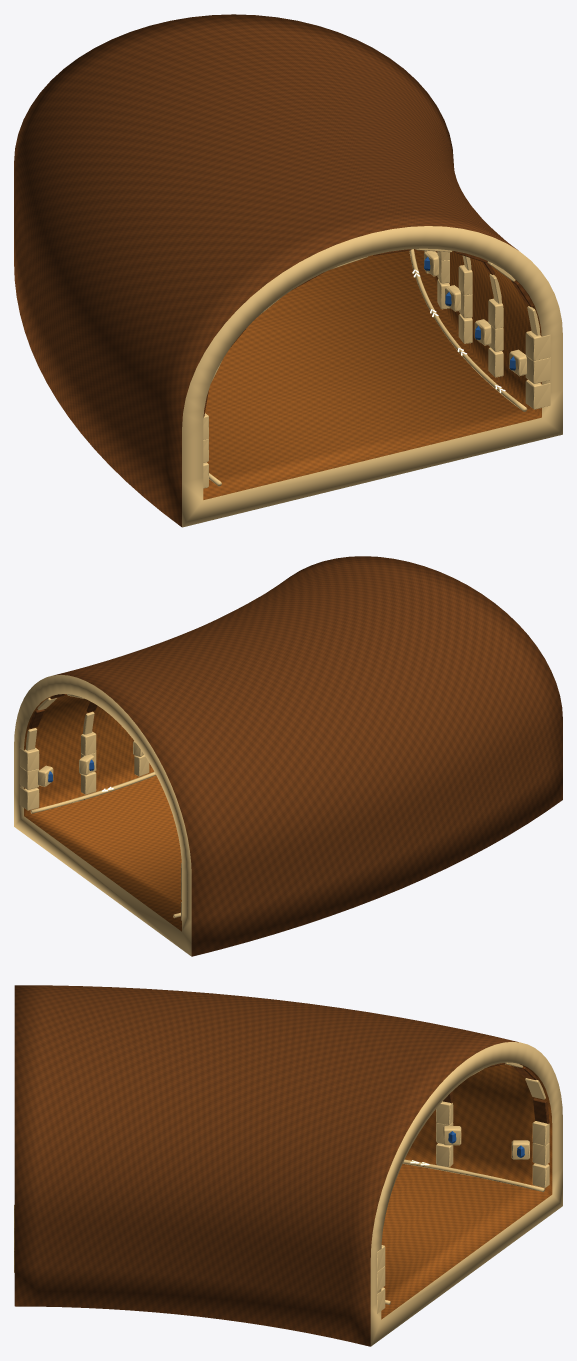
The model's file is curve_right_30_lod1.glb.
3 views of the same model, one above another, from view 1: azimuth 30°, elevation 25°; view 2: azimuth 150°, elevation 25°; view 3: azimuth 270°, elevation 25° (orthographic). The views are drawn at different scales.
Parts seen in each view (by area): view 1: TunnelGeometry.001; view 2: TunnelGeometry.001; view 3: TunnelGeometry.001.
Boxes of the visible parts, <box> form: TunnelGeometry.001: <box>14,14,562,527</box>; TunnelGeometry.001: <box>14,556,562,956</box>; TunnelGeometry.001: <box>14,985,562,1346</box>.
Bounding box in the file's own units: 19.1 × 9.52 × 21.85.
5 materials, 2 textured.
